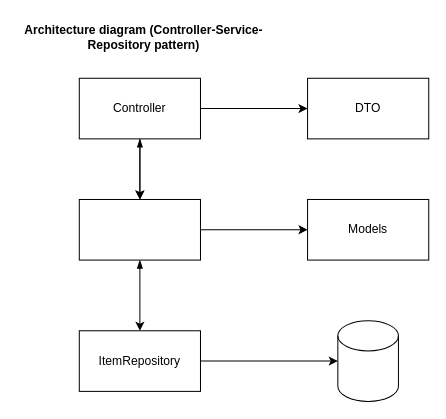
The diagram is 446 pixels wide and 419 high, and some of its shapes have lost their labels. The shapes that lost their labels are listed below. From the top down, each one's box as (x1, y1, x2, y2) in pixels, then its label:
(78, 198, 200, 260): ItemService
(337, 320, 398, 401): JSON Data
